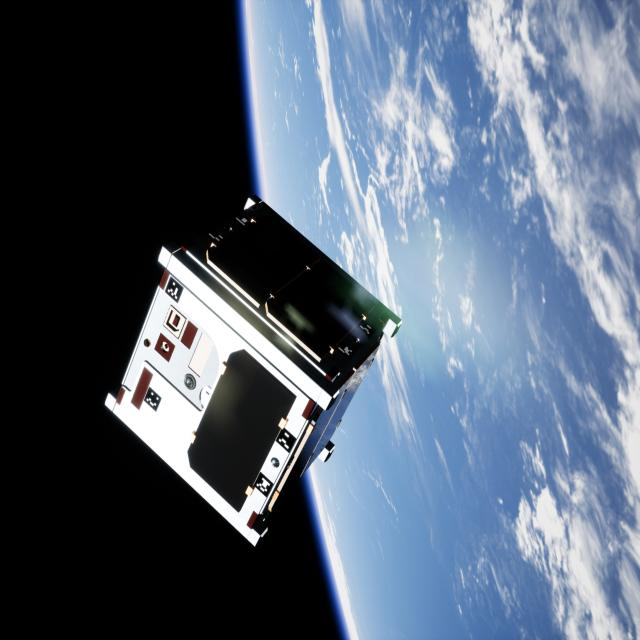satellite: (99, 198, 404, 546)
